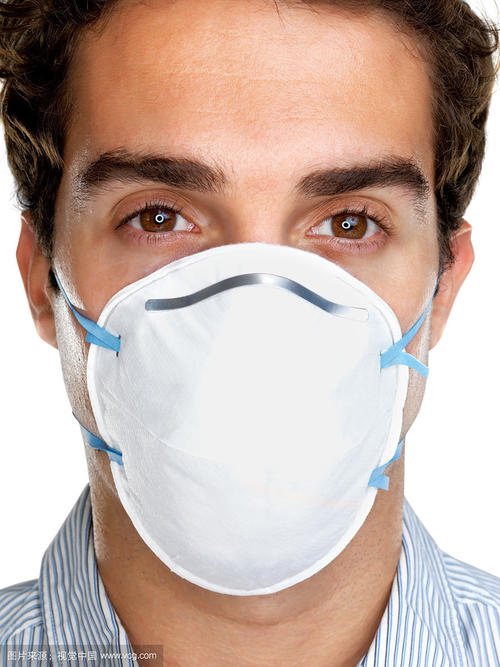mask: (41, 245, 428, 599)
